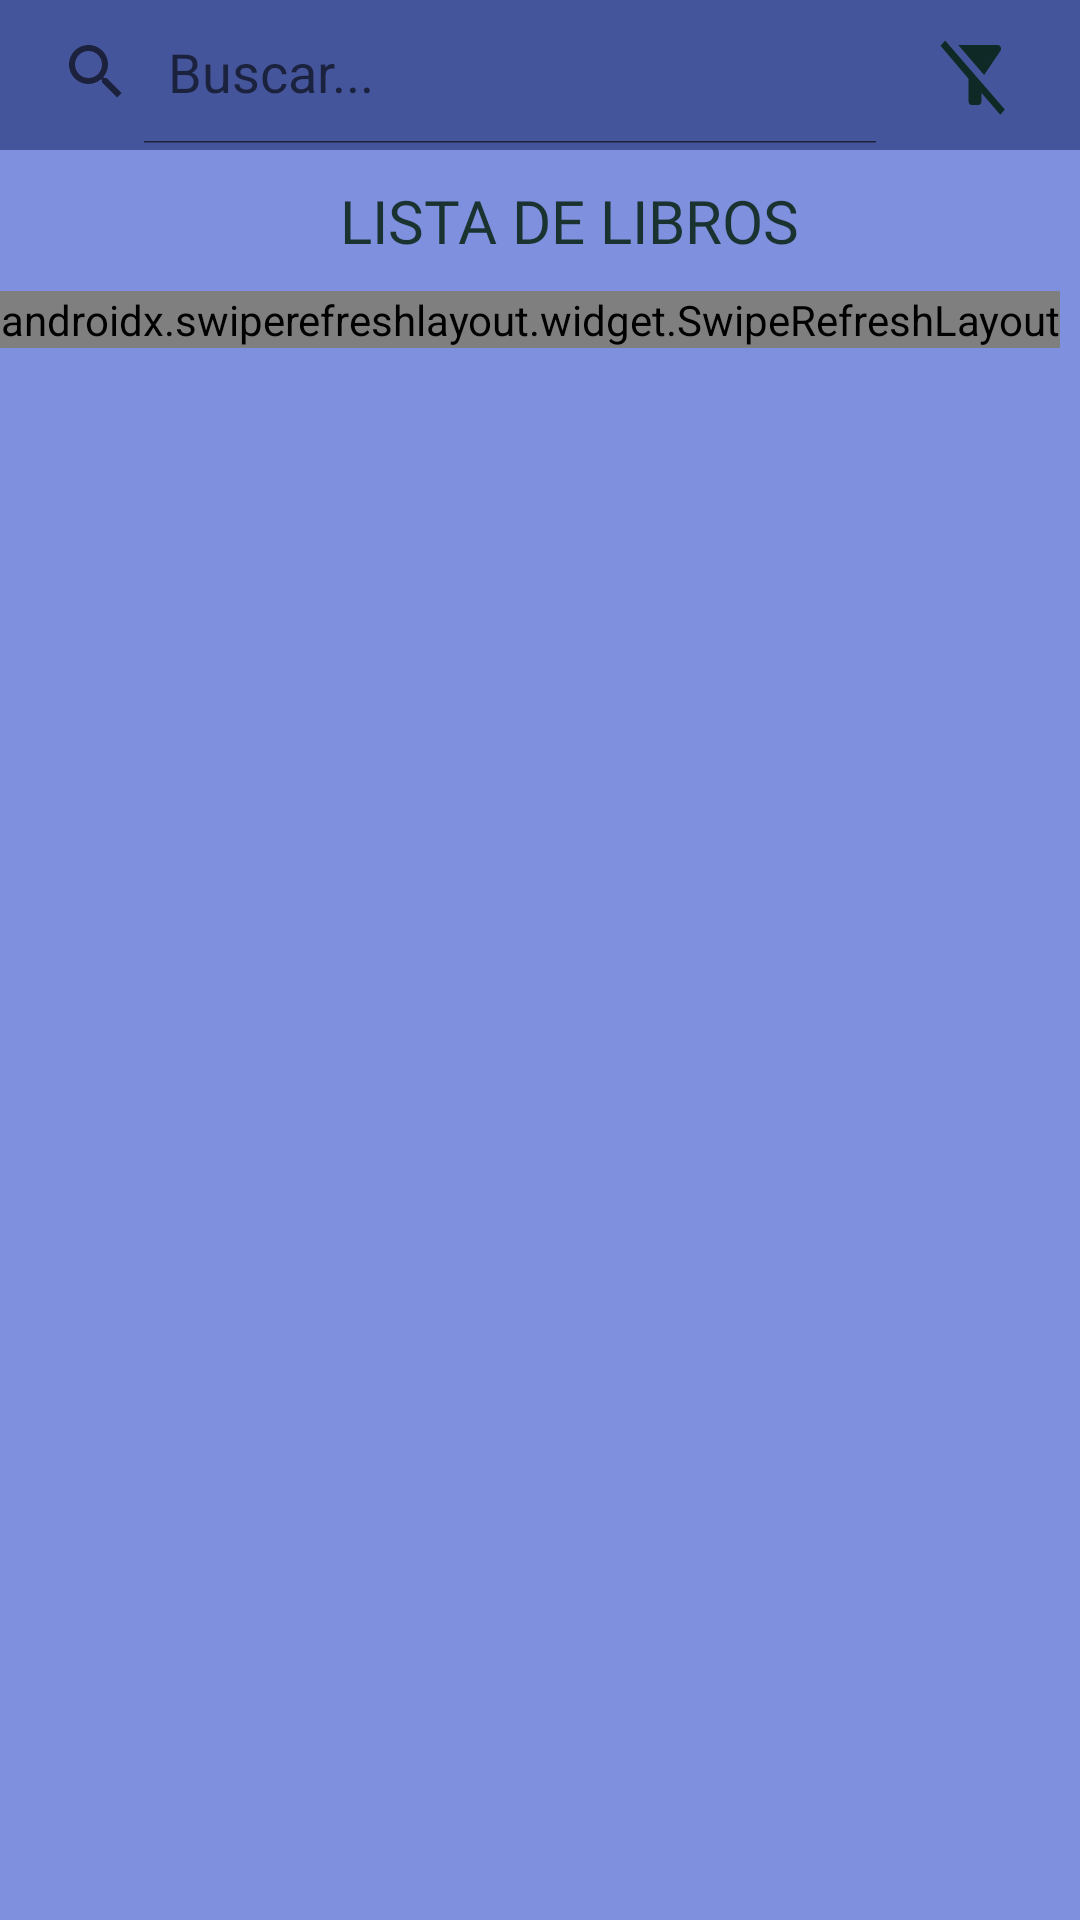

Where to tap for icons on this 1080px x 1920px app screen, as (x,y):
no filtrar: (972,78)
